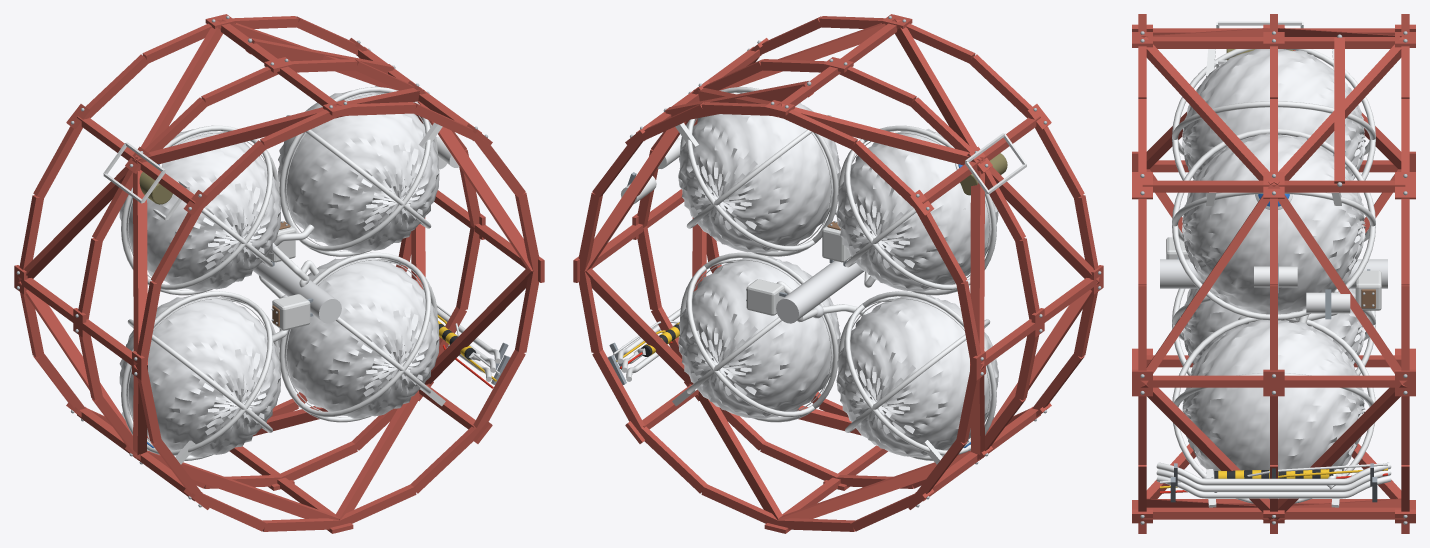
The model's file is tank-3-rcs.glb.
3 views of the same model, side by side, from view 1: azimuth 30°, elevation 25°; view 2: azimuth 150°, elevation 25°; view 3: azimuth 270°, elevation 25° (orthographic). The views are drawn at different scales.
Visible parts, largest first — view 1: rcs_red_box_truss, rcs_sphere_0_3, rcs_sphere_0_0, rcs_sphere_0_2, rcs_sphere_0_1, manifold_spine, rcs_sphere_cage_0_3_0, rcs_sphere_cage_0_3_1, rcs_sphere_cage_0_2_0, rcs_sphere_cage_0_2_2, rcs_sphere_cage_0_0_0, rcs_sphere_cage_0_1_1 (+10 smaller); view 2: rcs_red_box_truss, rcs_sphere_0_0, rcs_sphere_0_2, rcs_sphere_0_3, rcs_sphere_0_1, manifold_spine, rcs_sphere_cage_0_3_0, rcs_sphere_cage_0_3_1, rcs_sphere_cage_0_2_0, rcs_sphere_cage_0_2_2, rcs_sphere_cage_0_1_0, rcs_sphere_cage_0_1_1 (+11 smaller); view 3: rcs_red_box_truss, rcs_sphere_0_3, rcs_sphere_0_0, rcs_sphere_0_1, rcs_white_external_pipe_bundle, rcs_sphere_0_2, rcs_sphere_cage_0_0_1, rcs_sphere_cage_0_3_2, rcs_sphere_cage_0_1_2, rcs_small_white_cylinders, manifold_spine, rcs_sphere_cage_0_1_1 (+11 smaller).
Part boxes in pixels (left/top/right/bottom): rcs_red_box_truss: left=14, top=14, right=544, bottom=533; rcs_sphere_0_3: left=278, top=256, right=439, bottom=418; rcs_sphere_0_0: left=278, top=90, right=439, bottom=253; rcs_sphere_0_2: left=119, top=295, right=280, bottom=457; rcs_sphere_0_1: left=119, top=129, right=280, bottom=291; manifold_spine: left=253, top=258, right=341, bottom=323; rcs_sphere_cage_0_3_0: left=279, top=252, right=437, bottom=422; rcs_sphere_cage_0_3_1: left=286, top=258, right=431, bottom=417; rcs_sphere_cage_0_2_0: left=121, top=291, right=279, bottom=460; rcs_sphere_cage_0_2_2: left=128, top=297, right=272, bottom=455; rcs_sphere_cage_0_0_0: left=279, top=87, right=437, bottom=256; rcs_sphere_cage_0_1_1: left=128, top=131, right=272, bottom=290; rcs_red_box_truss: left=573, top=14, right=1103, bottom=533; rcs_sphere_0_0: left=678, top=92, right=840, bottom=252; rcs_sphere_0_2: left=836, top=295, right=998, bottom=457; rcs_sphere_0_3: left=678, top=256, right=840, bottom=418; rcs_sphere_0_1: left=836, top=128, right=998, bottom=291; manifold_spine: left=776, top=258, right=864, bottom=323; rcs_sphere_cage_0_3_0: left=680, top=252, right=838, bottom=422; rcs_sphere_cage_0_3_1: left=686, top=258, right=830, bottom=417; rcs_sphere_cage_0_2_0: left=838, top=291, right=996, bottom=460; rcs_sphere_cage_0_2_2: left=845, top=297, right=988, bottom=455; rcs_sphere_cage_0_1_0: left=838, top=125, right=996, bottom=295; rcs_sphere_cage_0_1_1: left=845, top=131, right=988, bottom=290; rcs_red_box_truss: left=1132, top=14, right=1415, bottom=533; rcs_sphere_0_3: left=1182, top=319, right=1365, bottom=475; rcs_sphere_0_0: left=1182, top=133, right=1365, bottom=314; rcs_sphere_0_1: left=1182, top=49, right=1365, bottom=179; rcs_white_external_pipe_bundle: left=1156, top=462, right=1391, bottom=498; rcs_sphere_0_2: left=1182, top=288, right=1365, bottom=364; rcs_sphere_cage_0_0_1: left=1172, top=128, right=1375, bottom=320; rcs_sphere_cage_0_3_2: left=1172, top=317, right=1375, bottom=503; rcs_sphere_cage_0_1_2: left=1172, top=49, right=1375, bottom=180; rcs_small_white_cylinders: left=1254, top=266, right=1350, bottom=313; manifold_spine: left=1160, top=259, right=1387, bottom=288; rcs_sphere_cage_0_1_1: left=1172, top=101, right=1375, bottom=155.
Bounding box in the file's own units: 6.01 × 6.02 × 3.24.
